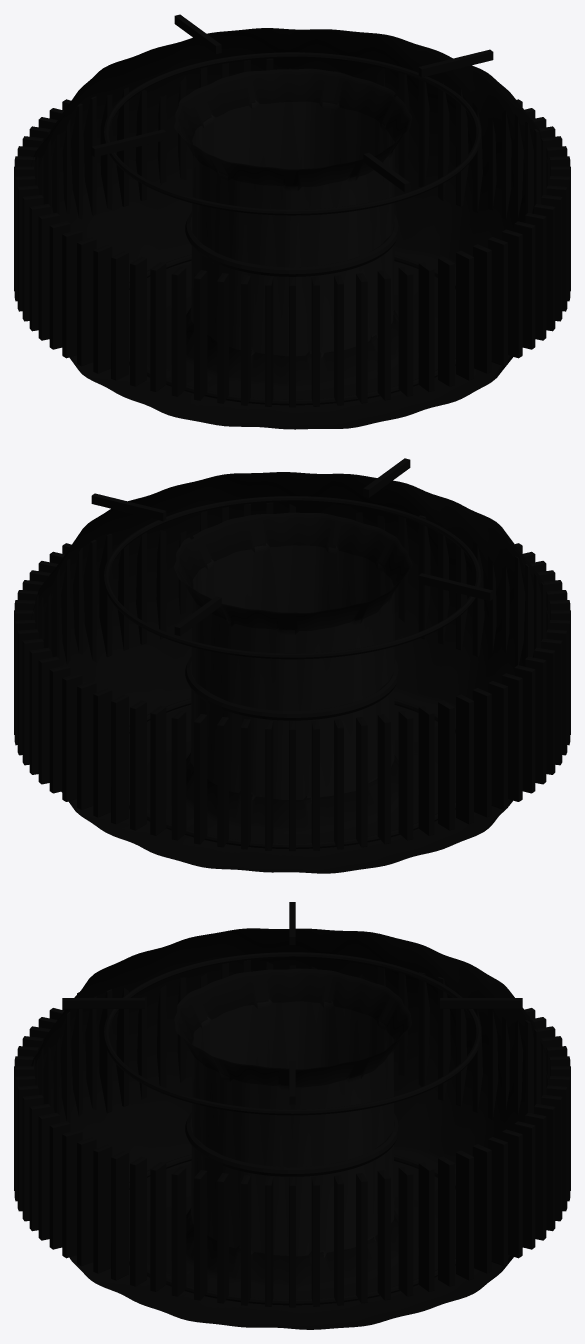
File: concept_tire.glb
3 views of the same model, one above another, from view 1: azimuth 30°, elevation 25°; view 2: azimuth 150°, elevation 25°; view 3: azimuth 270°, elevation 25° (orthographic).
Visible parts, largest first — view 1: concept_tire_body_red_worn_sidewall, molded_sidewall_ring_0.41, molded_sidewall_ring_0.00, raised_outer_tread_block_39, raised_outer_tread_block_57, raised_outer_tread_block_40, raised_outer_tread_block_56, raised_outer_tread_block_38, raised_outer_tread_block_58, raised_outer_tread_block_41, raised_outer_tread_block_42, raised_outer_tread_block_54 (+51 smaller); view 2: concept_tire_body_red_worn_sidewall, molded_sidewall_ring_0.41, molded_sidewall_ring_0.00, raised_outer_tread_block_15, raised_outer_tread_block_33, raised_outer_tread_block_16, raised_outer_tread_block_32, raised_outer_tread_block_14, raised_outer_tread_block_34, raised_outer_tread_block_17, raised_outer_tread_block_18, raised_outer_tread_block_30 (+50 smaller); view 3: concept_tire_body_red_worn_sidewall, molded_sidewall_ring_0.41, molded_sidewall_ring_0.00, raised_outer_tread_block_09, raised_outer_tread_block_63, raised_outer_tread_block_08, raised_outer_tread_block_64, raised_outer_tread_block_10, raised_outer_tread_block_62, raised_outer_tread_block_07, raised_outer_tread_block_65, raised_outer_tread_block_06 (+49 smaller).
Part boxes in pixels (box(x1,y1,x2,y2)): concept_tire_body_red_worn_sidewall: box(33, 28, 549, 429); molded_sidewall_ring_0.41: box(103, 52, 481, 215); molded_sidewall_ring_0.00: box(185, 212, 399, 276); raised_outer_tread_block_39: box(93, 244, 112, 373); raised_outer_tread_block_57: box(472, 244, 491, 373); raised_outer_tread_block_40: box(111, 251, 128, 380); raised_outer_tread_block_56: box(456, 251, 473, 380); raised_outer_tread_block_38: box(77, 237, 96, 366); raised_outer_tread_block_58: box(488, 237, 507, 366); raised_outer_tread_block_41: box(130, 256, 146, 386); raised_outer_tread_block_42: box(150, 262, 166, 392); raised_outer_tread_block_54: box(418, 262, 434, 392); concept_tire_body_red_worn_sidewall: box(31, 472, 549, 873); molded_sidewall_ring_0.41: box(103, 496, 481, 659); molded_sidewall_ring_0.00: box(185, 656, 399, 720); raised_outer_tread_block_15: box(93, 688, 112, 817); raised_outer_tread_block_33: box(472, 688, 491, 817); raised_outer_tread_block_16: box(111, 694, 128, 824); raised_outer_tread_block_32: box(456, 694, 473, 824); raised_outer_tread_block_14: box(77, 681, 96, 809); raised_outer_tread_block_34: box(488, 681, 507, 809); raised_outer_tread_block_17: box(130, 700, 146, 830); raised_outer_tread_block_18: box(150, 705, 166, 835); raised_outer_tread_block_30: box(418, 705, 434, 835); concept_tire_body_red_worn_sidewall: box(31, 928, 549, 1329); molded_sidewall_ring_0.41: box(103, 952, 481, 1115); molded_sidewall_ring_0.00: box(185, 1112, 399, 1176); raised_outer_tread_block_09: box(472, 1144, 491, 1273); raised_outer_tread_block_63: box(93, 1144, 112, 1273); raised_outer_tread_block_08: box(456, 1150, 473, 1280); raised_outer_tread_block_64: box(111, 1150, 128, 1280); raised_outer_tread_block_10: box(488, 1137, 507, 1266); raised_outer_tread_block_62: box(77, 1137, 96, 1266); raised_outer_tread_block_07: box(438, 1156, 454, 1286); raised_outer_tread_block_65: box(130, 1156, 146, 1286); raised_outer_tread_block_06: box(418, 1162, 434, 1291).
Size of the model in its own units: 2.15 by 1.06 by 2.15.
Materials: 3 (2 with a texture image).
